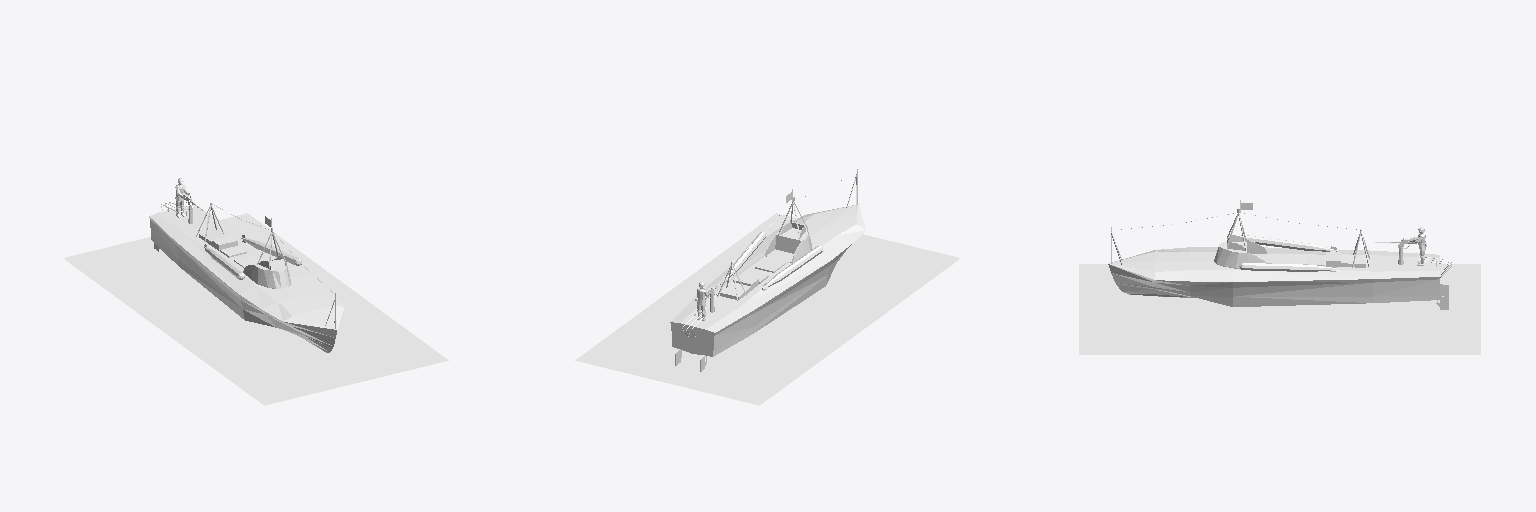
File: SWET21.obj
3 renders of one model, left to right at view 1: azimuth 30°, elevation 25°; view 2: azimuth 150°, elevation 25°; view 3: azimuth 270°, elevation 25°, orthographic.
Parts seen in each view (by area): view 1: g0; view 2: g0; view 3: g0.
Boxes of the visible parts, x1,y1,x2,y2 form: g0: [63, 178, 448, 405]; g0: [575, 169, 960, 405]; g0: [1079, 200, 1480, 354].
Size of the model in its own units: 74.61 by 41.2 by 141.